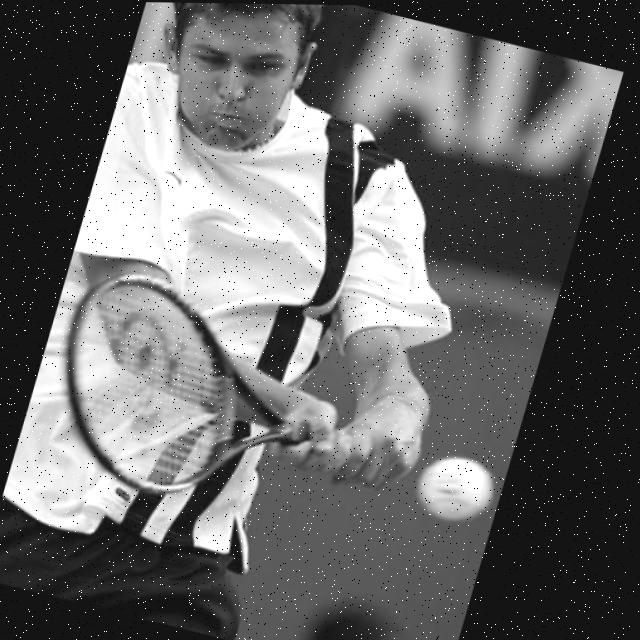face: (147, 3, 328, 167)
